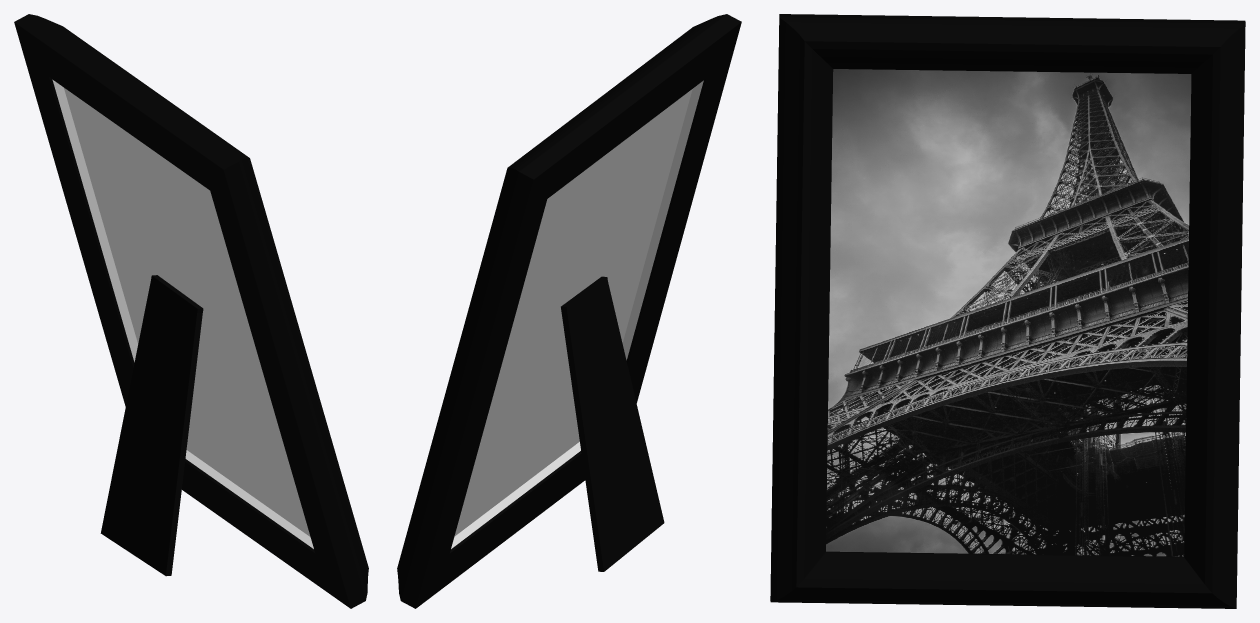
File: frame.glb
The picture shows the model from 3 angles, left to right: view 1: azimuth 30°, elevation 25°; view 2: azimuth 150°, elevation 25°; view 3: azimuth 270°, elevation 25°; orthographic projection. The views are drawn at different scales.
Parts seen in each view (by area): view 1: Frame, Frame_Foot; view 2: Frame, Frame_Foot; view 3: Frame.
Part boxes in pixels (x1=…): Frame: x1=14, y1=14, x2=368, y2=608; Frame_Foot: x1=100, y1=275, x2=203, y2=576; Frame: x1=397, y1=14, x2=741, y2=608; Frame_Foot: x1=561, y1=276, x2=664, y2=571; Frame: x1=770, y1=14, x2=1245, y2=608.
Size of the model in its own units: 66.24 by 197 by 160.
4 materials, 1 textured.
